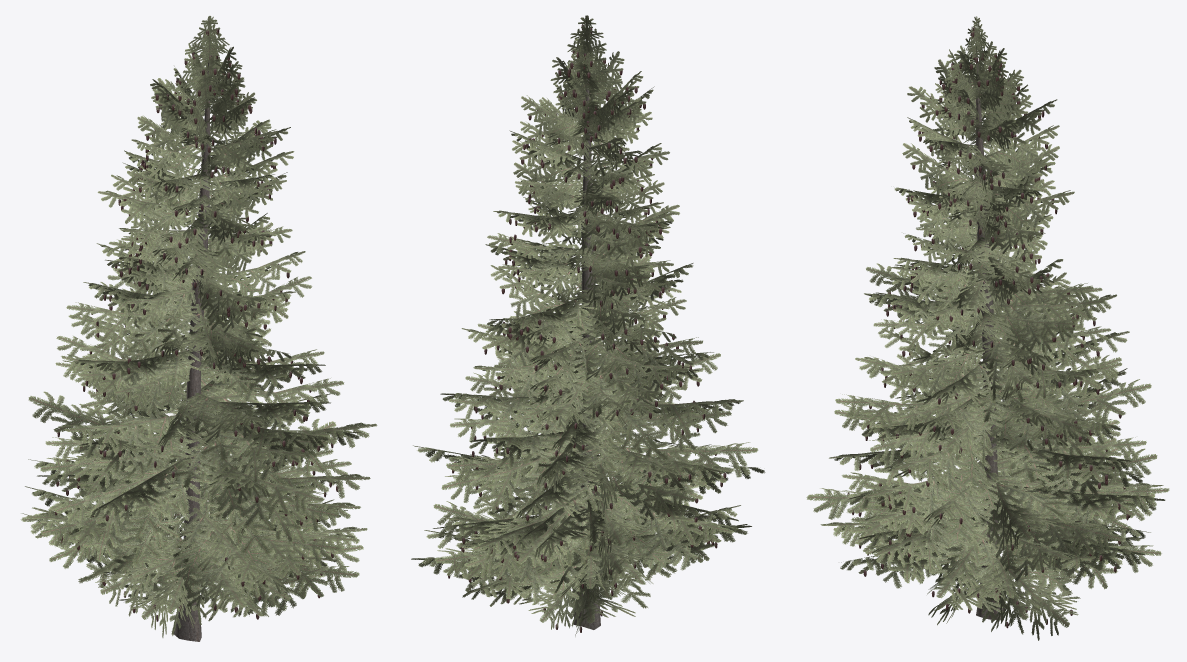
The model's file is Picea_Abies_Spring_Adult.glb.
3 renders of one model, left to right at view 1: azimuth 30°, elevation 25°; view 2: azimuth 150°, elevation 25°; view 3: azimuth 270°, elevation 25°, orthographic. The views are drawn at different scales.
Parts seen in each view (by area): view 1: Picea_Abies_Spring_Adult__LOD3; view 2: Picea_Abies_Spring_Adult__LOD3; view 3: Picea_Abies_Spring_Adult__LOD3.
Boxes of the visible parts, <box> form: Picea_Abies_Spring_Adult__LOD3: <box>20,16,377,641</box>; Picea_Abies_Spring_Adult__LOD3: <box>411,15,765,636</box>; Picea_Abies_Spring_Adult__LOD3: <box>806,16,1169,640</box>.
Size of the model in its own units: 14.23 by 25.54 by 14.16.
Materials: 3 (3 with a texture image).
